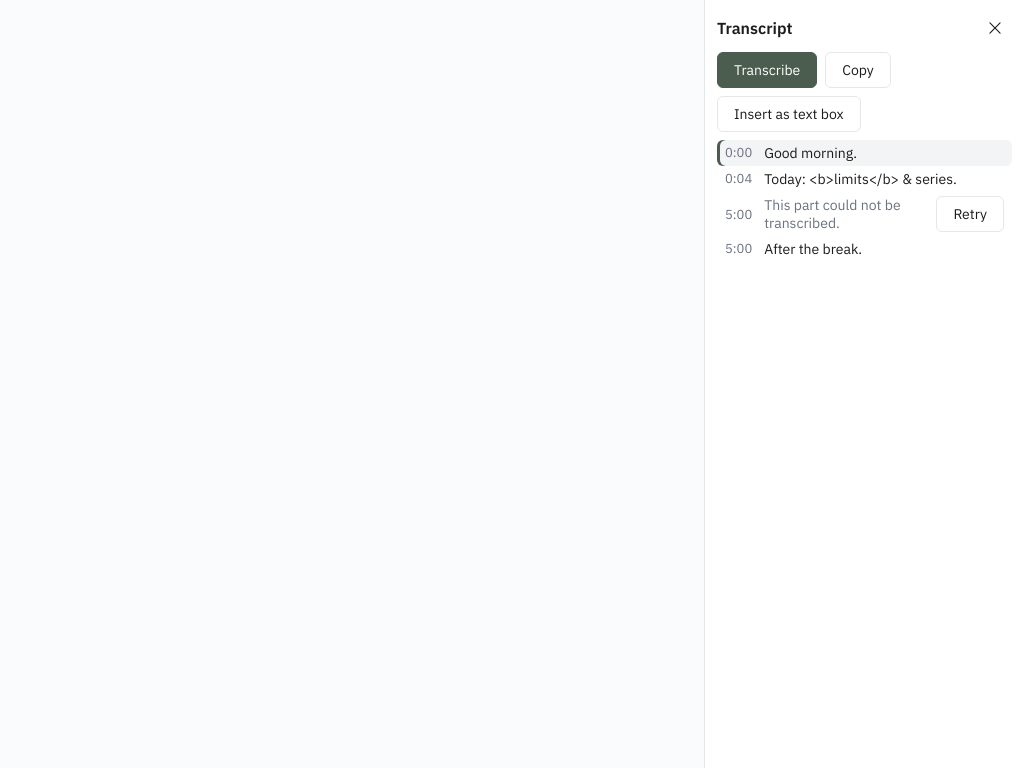
Test: TranscriptPanel on another page › retry works from another page
Click the button "Retry": (970, 214) [936,196,1004,232]
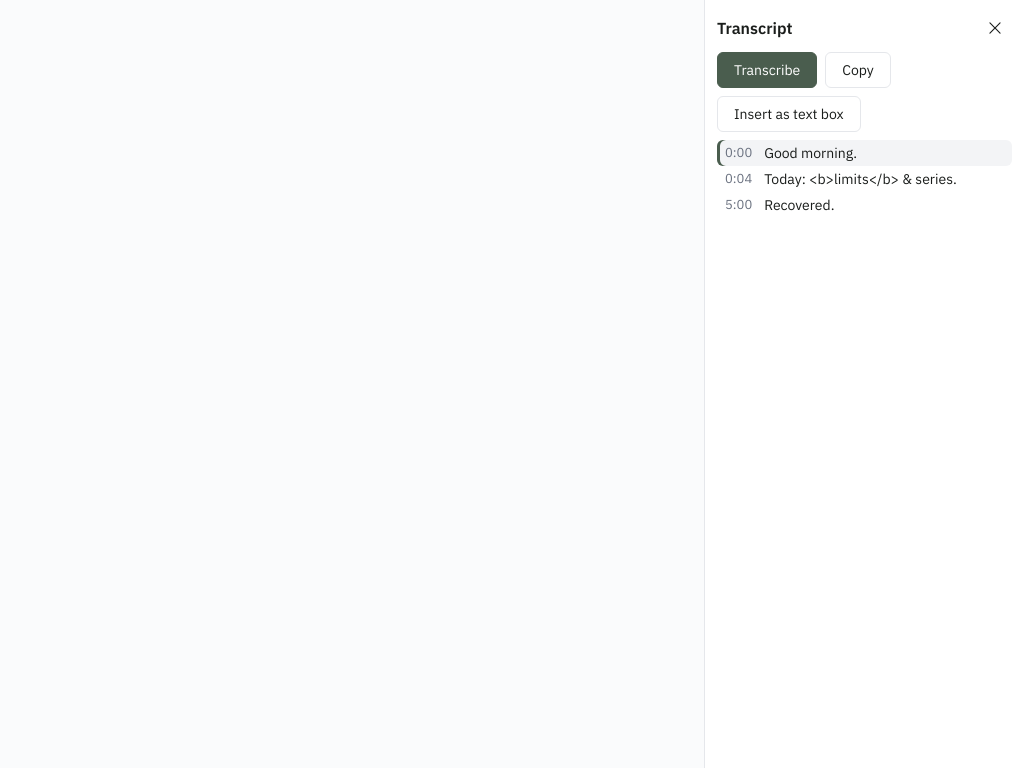
Expected: the text "Good morning." is shown, [764,144,857,162]
Expected: the text "Recovered." is shown, [764,196,834,214]
Expected: the text "This part could not be transcribed." is gone
